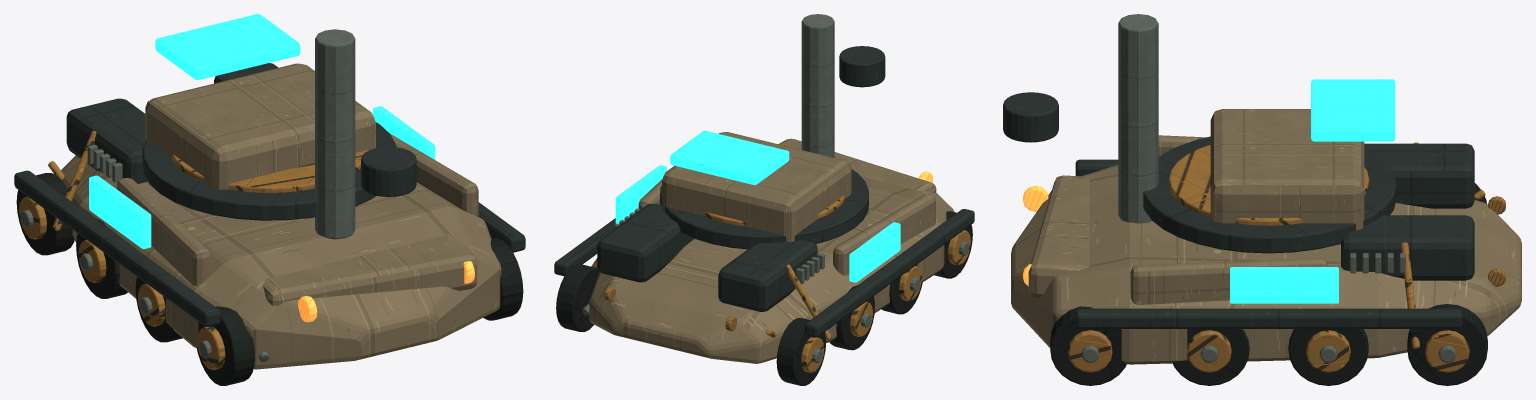
File: drift_tank.glb
The picture shows the model from 3 angles, left to right: view 1: azimuth 30°, elevation 25°; view 2: azimuth 150°, elevation 25°; view 3: azimuth 270°, elevation 25°; orthographic projection. The views are drawn at different scales.
Parts seen in each view (by area): view 1: Wanderpakt · low angular field chassis, Raised armored traversing turret, Faction detail · Vehicle / armor_light.001, Faction detail · Vehicle / dark.001, Faction detail · Vehicle / dark.002, Long-bore main cannon, Faction detail · Vehicle / rubber.001, TeamColor, Faction detail · Vehicle / hazard.001, TeamColor flank details, Indexed azimuth bearing, Faction detail · Vehicle / steel.001 (+1 smaller); view 2: Wanderpakt · low angular field chassis, Faction detail · Vehicle / dark.001, Raised armored traversing turret, Faction detail · Vehicle / dark.002, Faction detail · Vehicle / rubber.001, Long-bore main cannon, Faction detail · Vehicle / armor_light.001, TeamColor, TeamColor flank details, Faction detail · Vehicle / hazard.001, Faction detail · Vehicle / steel.001, Indexed azimuth bearing; view 3: Wanderpakt · low angular field chassis, Faction detail · Vehicle / dark.001, Raised armored traversing turret, Faction detail · Vehicle / dark.002, Faction detail · Vehicle / armor_light.001, Faction detail · Vehicle / rubber.001, Long-bore main cannon, Faction detail · Vehicle / hazard.001, TeamColor, TeamColor flank details, Indexed azimuth bearing, Faction detail · Vehicle / steel.001 (+2 smaller).
Part boxes in pixels (x1,y1,x2,y2): Wanderpakt · low angular field chassis: (61, 155, 501, 369); Raised armored traversing turret: (145, 63, 375, 189); Faction detail · Vehicle / armor_light.001: (117, 134, 478, 305); Faction detail · Vehicle / dark.001: (14, 63, 525, 326); Faction detail · Vehicle / dark.002: (142, 122, 416, 220); Long-bore main cannon: (315, 29, 355, 239); Faction detail · Vehicle / rubber.001: (16, 173, 523, 385); TeamColor: (155, 14, 300, 80); Faction detail · Vehicle / hazard.001: (19, 131, 225, 369); TeamColor flank details: (89, 106, 435, 249); Indexed azimuth bearing: (172, 150, 368, 192); Faction detail · Vehicle / steel.001: (21, 144, 269, 361); Wanderpakt · low angular field chassis: (589, 177, 954, 363); Faction detail · Vehicle / dark.001: (554, 203, 974, 337); Raised armored traversing turret: (662, 132, 851, 241); Faction detail · Vehicle / dark.002: (660, 46, 885, 249); Faction detail · Vehicle / rubber.001: (556, 211, 972, 385); Long-bore main cannon: (801, 14, 834, 157); Faction detail · Vehicle / armor_light.001: (638, 138, 936, 275); TeamColor: (670, 130, 789, 185); TeamColor flank details: (615, 165, 900, 282); Faction detail · Vehicle / hazard.001: (591, 220, 970, 372); Faction detail · Vehicle / steel.001: (582, 208, 969, 362); Indexed azimuth bearing: (704, 195, 845, 226); Wanderpakt · low angular field chassis: (1011, 165, 1521, 364); Faction detail · Vehicle / dark.001: (1075, 143, 1474, 328); Raised armored traversing turret: (1210, 109, 1364, 229); Faction detail · Vehicle / dark.002: (1003, 92, 1396, 253); Faction detail · Vehicle / armor_light.001: (1028, 135, 1328, 304); Faction detail · Vehicle / rubber.001: (1050, 173, 1487, 385); Long-bore main cannon: (1118, 14, 1158, 223); Faction detail · Vehicle / hazard.001: (1068, 142, 1485, 372); TeamColor: (1311, 79, 1395, 141); TeamColor flank details: (1230, 267, 1338, 303); Indexed azimuth bearing: (1168, 144, 1369, 225); Faction detail · Vehicle / steel.001: (1081, 253, 1456, 362).
Bounding box in the file's own units: 2.39 × 2.09 × 3.35.
Materials: 9 (9 with a texture image).
